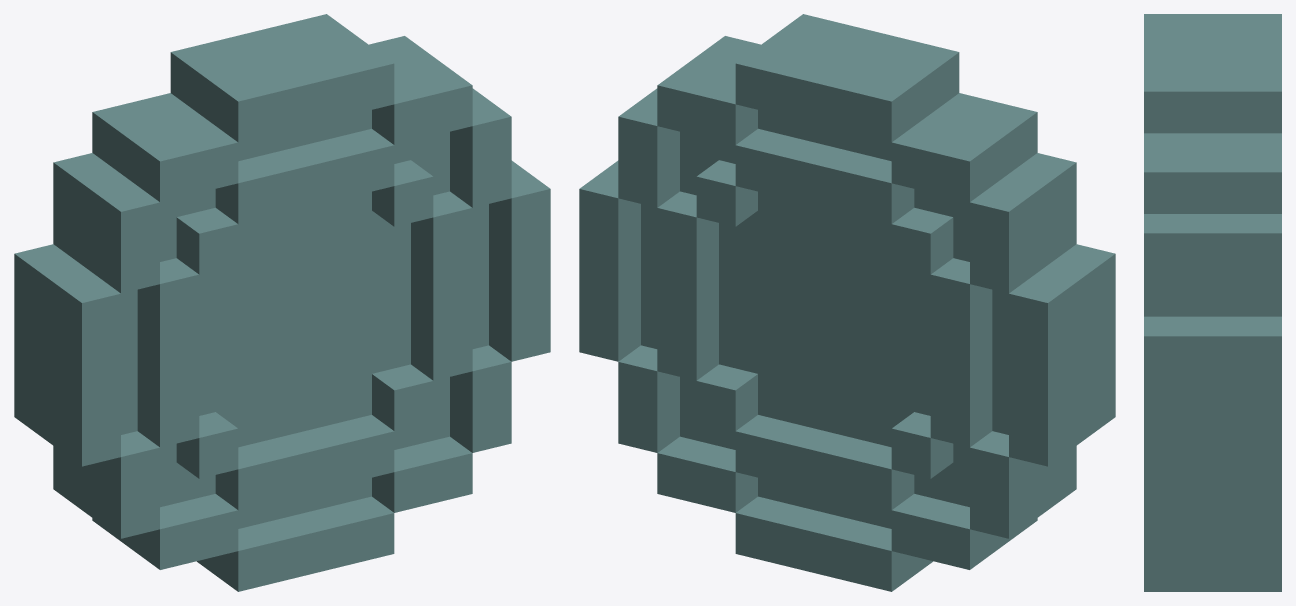
Rendered from Coin_Big_1.dae.
3 renders of one model, left to right at view 1: azimuth 30°, elevation 25°; view 2: azimuth 150°, elevation 25°; view 3: azimuth 270°, elevation 25°, orthographic. The views are drawn at different scales.
Visible parts, largest first — view 1: Coin_Big_1; view 2: Coin_Big_1; view 3: Coin_Big_1.
Boxes of the visible parts, x1=… form: Coin_Big_1: x1=14, y1=14, x2=550, y2=591; Coin_Big_1: x1=579, y1=14, x2=1115, y2=591; Coin_Big_1: x1=1144, y1=14, x2=1281, y2=591.
Size of the model in its own units: 0.3 by 0.075 by 0.3.
